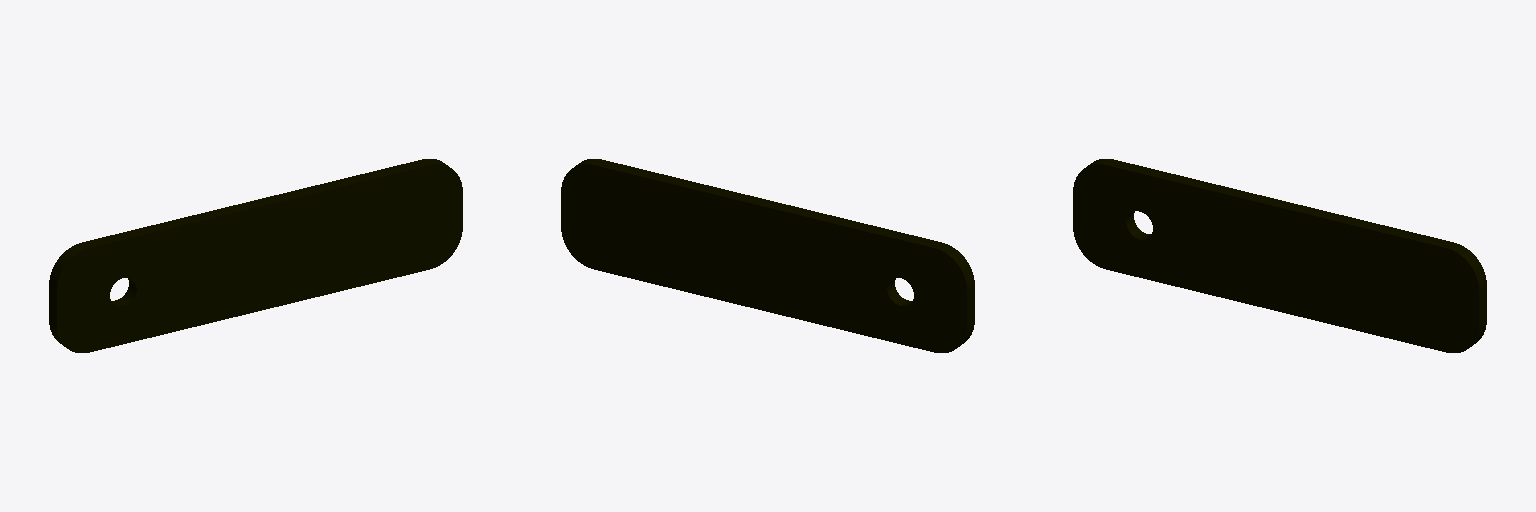
File: CoverLeds.obj
3 renders of one model, left to right at view 1: azimuth 30°, elevation 25°; view 2: azimuth 150°, elevation 25°; view 3: azimuth 330°, elevation 25°, orthographic.
Parts seen in each view (by area): view 1: Body5; view 2: Body5; view 3: Body5.
Part boxes in pixels (x1,y1,x2,y2): Body5: (49, 159, 462, 352); Body5: (561, 159, 974, 352); Body5: (1073, 159, 1486, 352).
Bounding box in the file's own units: 61 × 15 × 2.